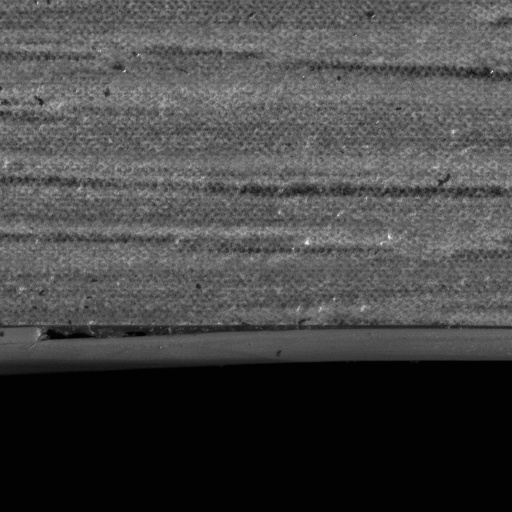kaijiao: (0, 313, 511, 374)
